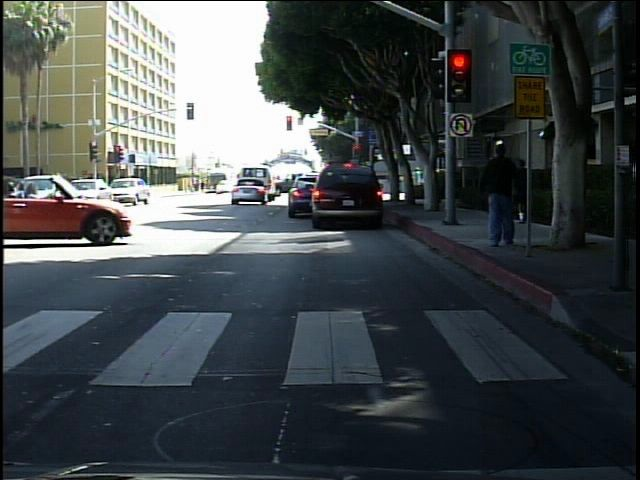person: (477, 131, 527, 254), (512, 147, 537, 231)
